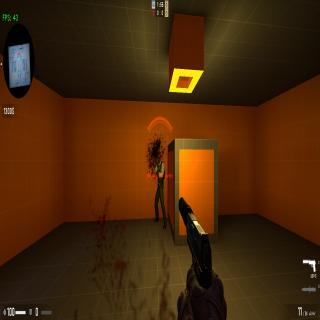T-Body: (154, 152, 167, 229)
T-Head: (157, 152, 161, 164)
